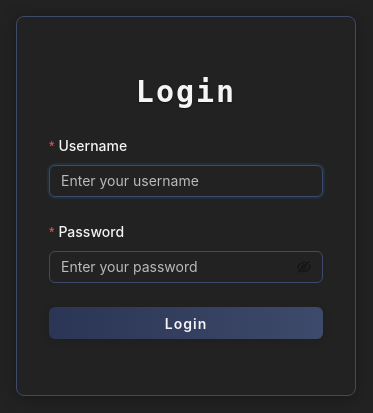
Test: LoginComponent › shows validation error if username or password is empty
# Submit empty form
Click the button "Login".
click(186, 323)  # box 49,307 -> 323,339
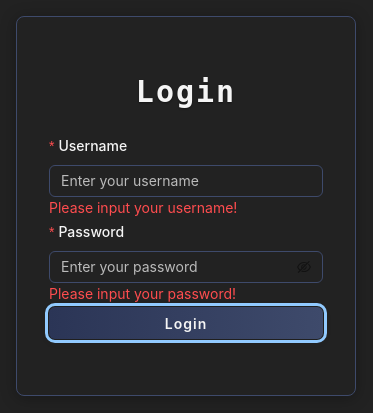
Expected: the text "Please input your username!" is shown, 49,199 -> 237,216
Expected: the text "Please input your password!" is shown, 49,285 -> 236,302
